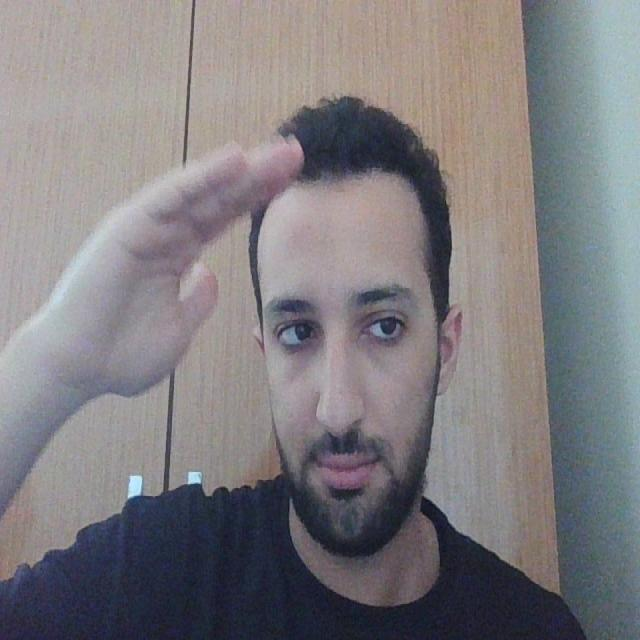Merhaba: (54, 90, 318, 480)
